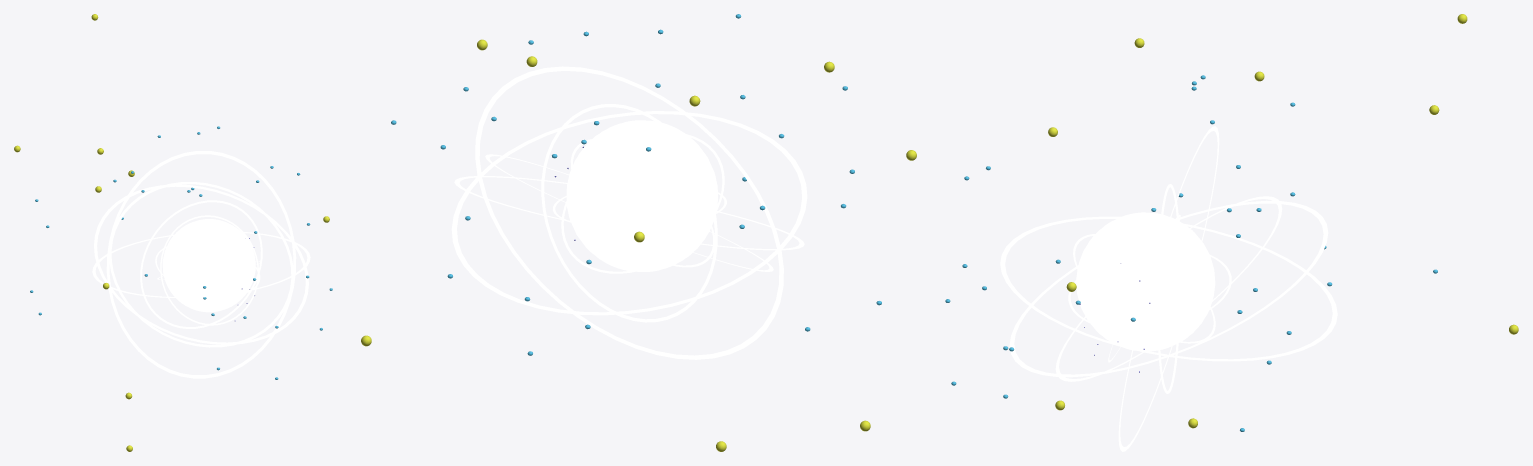
File: ExperimentalEarth.glb
The picture shows the model from 3 angles, left to right: view 1: azimuth 30°, elevation 25°; view 2: azimuth 150°, elevation 25°; view 3: azimuth 270°, elevation 25°; orthographic projection. The views are drawn at different scales.
Visible parts, largest first — view 1: Sphere.001, Sphere, BezierCircle.003, BezierCircle.002, BezierCircle.001, BezierCircle.004, BezierCircle.005, BezierCircle.006; view 2: Sphere.001, Sphere, BezierCircle.003, BezierCircle.005, BezierCircle.004, BezierCircle.002, BezierCircle.007, BezierCircle.001, BezierCircle.006; view 3: Sphere, Sphere.001, BezierCircle.005, BezierCircle.002, BezierCircle.001, BezierCircle.003, BezierCircle.004.
Boxes of the visible parts, x1,y1,x2,y2 form: Sphere.001: [162, 219, 255, 312]; Sphere: [162, 219, 255, 312]; BezierCircle.003: [106, 151, 296, 378]; BezierCircle.002: [94, 184, 308, 344]; BezierCircle.001: [109, 182, 293, 347]; BezierCircle.004: [140, 200, 262, 328]; BezierCircle.005: [92, 232, 310, 297]; BezierCircle.006: [160, 215, 258, 325]; Sphere.001: [566, 120, 717, 271]; Sphere: [566, 120, 717, 271]; BezierCircle.003: [475, 66, 783, 359]; BezierCircle.005: [451, 111, 807, 315]; BezierCircle.004: [541, 104, 717, 322]; BezierCircle.002: [454, 176, 804, 250]; BezierCircle.007: [561, 134, 724, 273]; BezierCircle.001: [485, 154, 773, 271]; BezierCircle.006: [570, 138, 714, 267]; Sphere: [1076, 212, 1215, 350]; Sphere.001: [1076, 212, 1215, 351]; BezierCircle.005: [1000, 216, 1337, 361]; BezierCircle.002: [1009, 200, 1328, 377]; BezierCircle.001: [1055, 196, 1282, 381]; BezierCircle.003: [1118, 126, 1219, 451]; BezierCircle.004: [1156, 184, 1179, 393].
Bounding box in the file's own units: 34.72 × 37.1 × 41.17.
